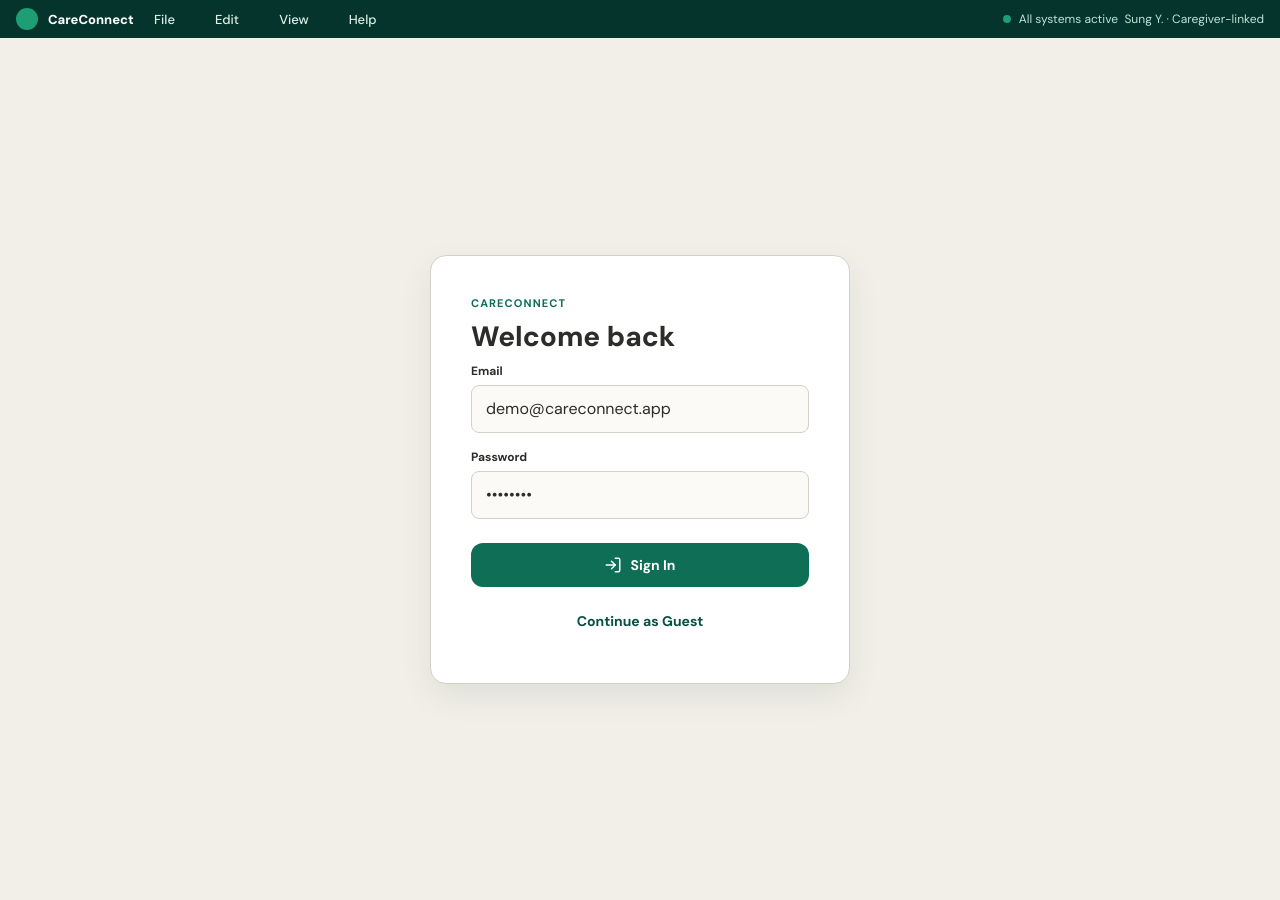
Test: LoginScreen › signs in and lands on the dashboard
This screenshot has width=1280, height=900.
Click the button "Sign In" at (640, 564), box [471,542,809,586]
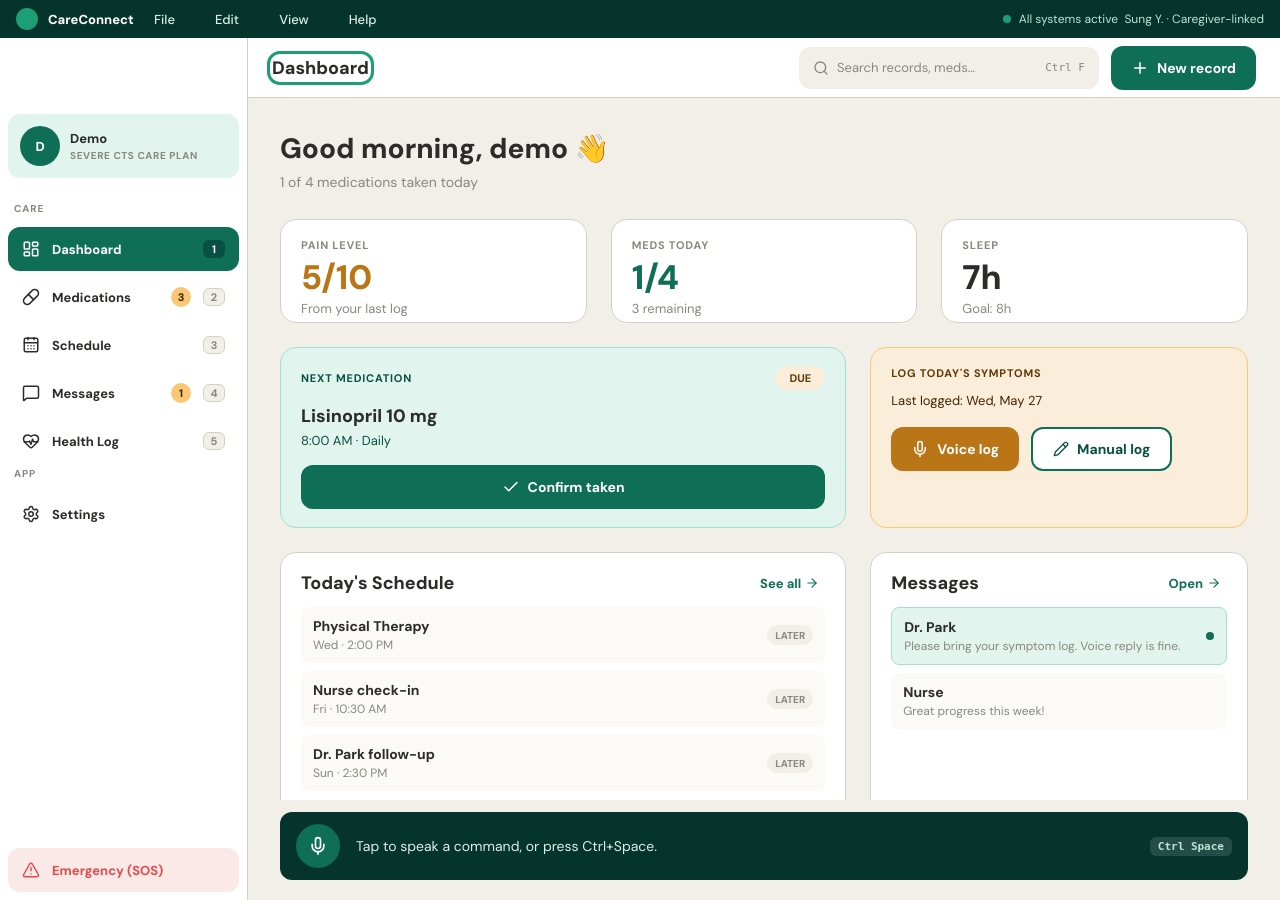
Check: the heading "Dashboard" is shown, box [272,56,369,80]
